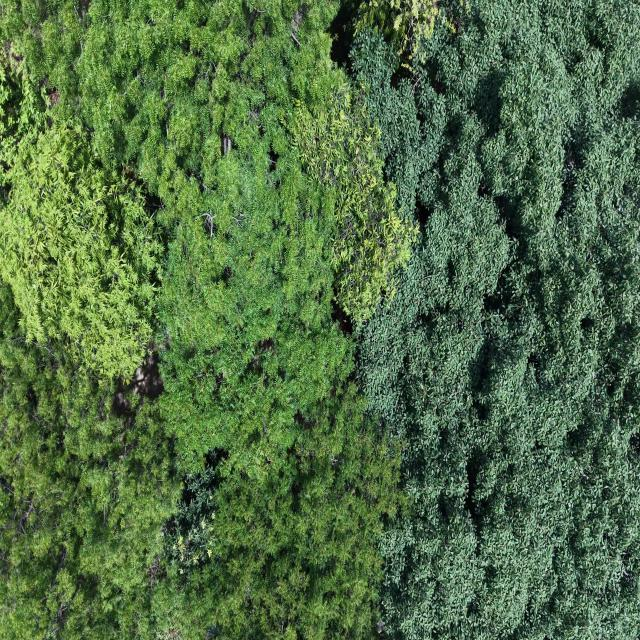VEGETATION_TREE: (0, 0, 639, 639), (2, 2, 415, 638), (353, 2, 639, 639), (0, 285, 181, 638), (0, 53, 162, 380), (0, 125, 162, 380), (294, 86, 418, 325), (342, 0, 453, 70)
